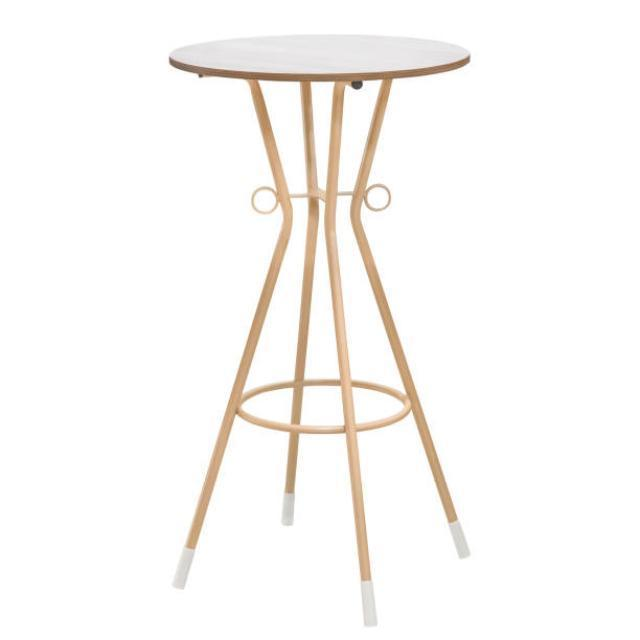table: (166, 33, 473, 626)
